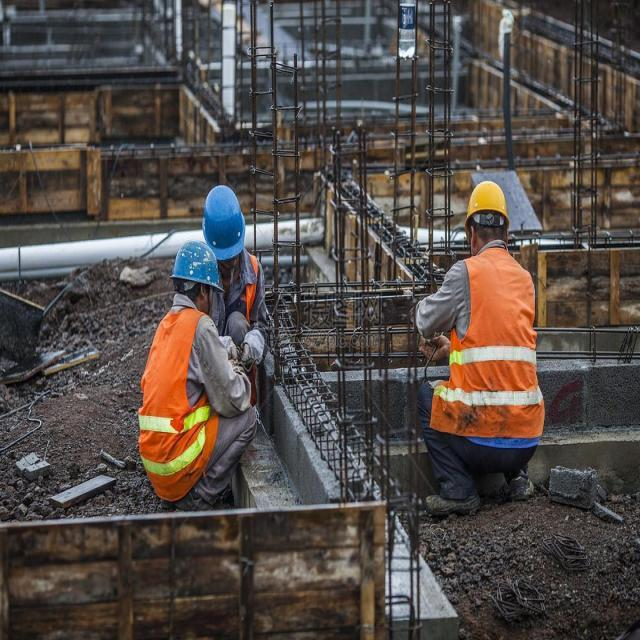head_helmet: (201, 187, 246, 260), (172, 240, 223, 298), (464, 179, 510, 232)
person: (415, 176, 544, 514), (135, 243, 255, 501), (202, 186, 268, 364)
shoes: (424, 482, 484, 524), (498, 460, 538, 506)
vest: (430, 257, 540, 440), (139, 310, 218, 497)
